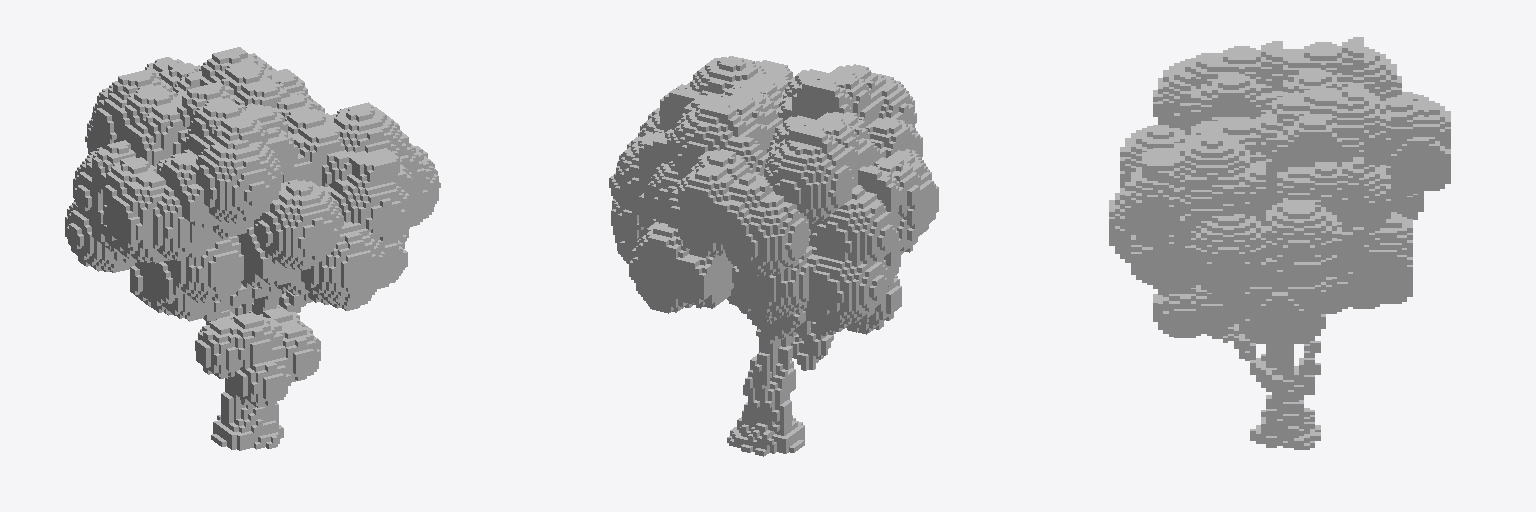
The model's file is sakuraMeshik.obj.
The picture shows the model from 3 angles: view 1: azimuth 30°, elevation 25°; view 2: azimuth 150°, elevation 25°; view 3: azimuth 270°, elevation 25°; orthographic projection.
Visible parts, largest first — view 1: object 1; view 2: object 1; view 3: object 1.
Part boxes in pixels (bbox=[...]): object 1: bbox=[65, 47, 440, 450]; object 1: bbox=[609, 56, 938, 456]; object 1: bbox=[1109, 37, 1450, 449].
Size of the model in its own units: 6.3 by 7.4 by 6.3.